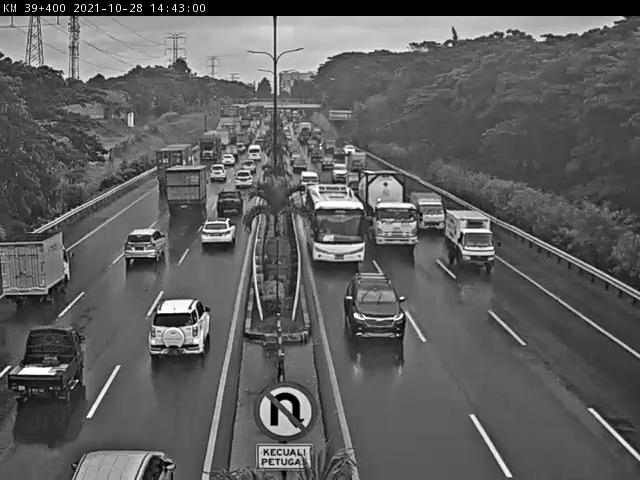big bus: (308, 186, 376, 276)
big truck: (358, 167, 421, 251), (156, 145, 199, 195), (165, 165, 208, 212)
car: (342, 272, 408, 347), (148, 298, 213, 361), (123, 228, 165, 263), (200, 215, 236, 245), (220, 187, 243, 210), (300, 172, 323, 194), (332, 162, 350, 185), (296, 158, 312, 175), (211, 163, 226, 180), (237, 170, 253, 185)
small truck: (6, 325, 84, 411), (0, 231, 78, 308), (444, 207, 502, 273), (411, 192, 447, 238)
